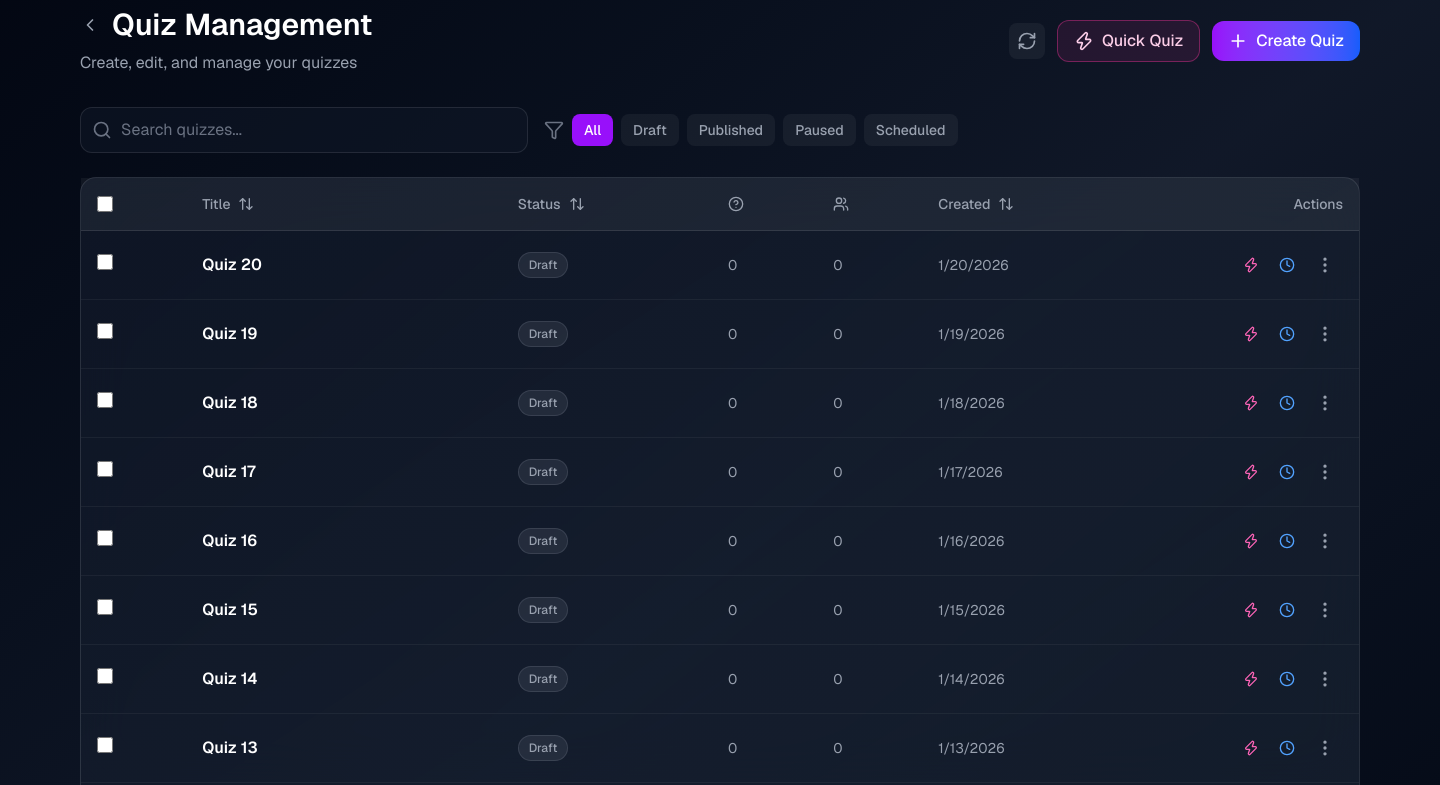
admin quiz list page › select-all reflects the quizzes on the current page, not the selection count
Click the checkbox in the row of "Actions".
click(105, 204)  # box [97, 196, 113, 212]
(page scrolled)
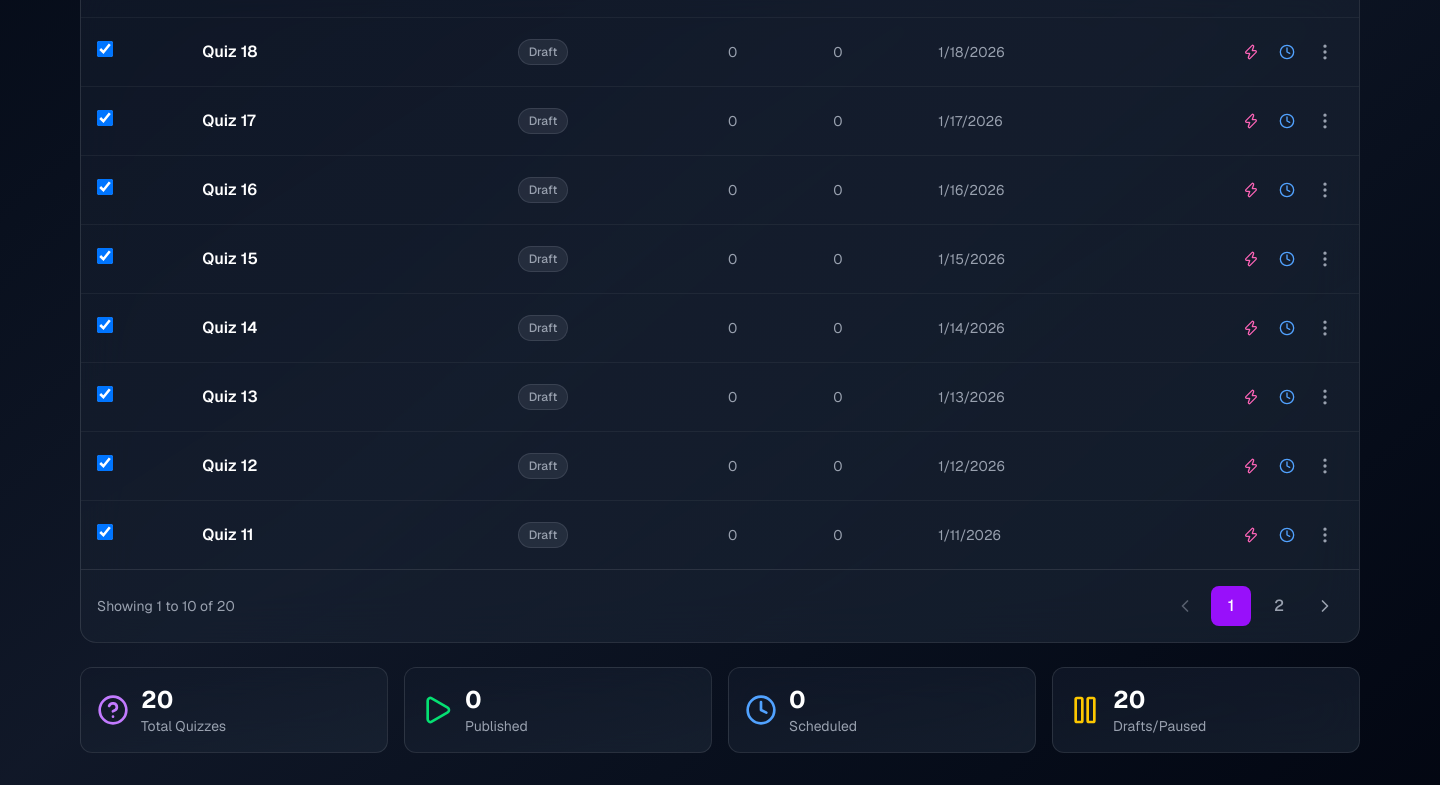
Click the button "2".
click(1279, 606)  # box [1259, 586, 1299, 626]
(page scrolled)
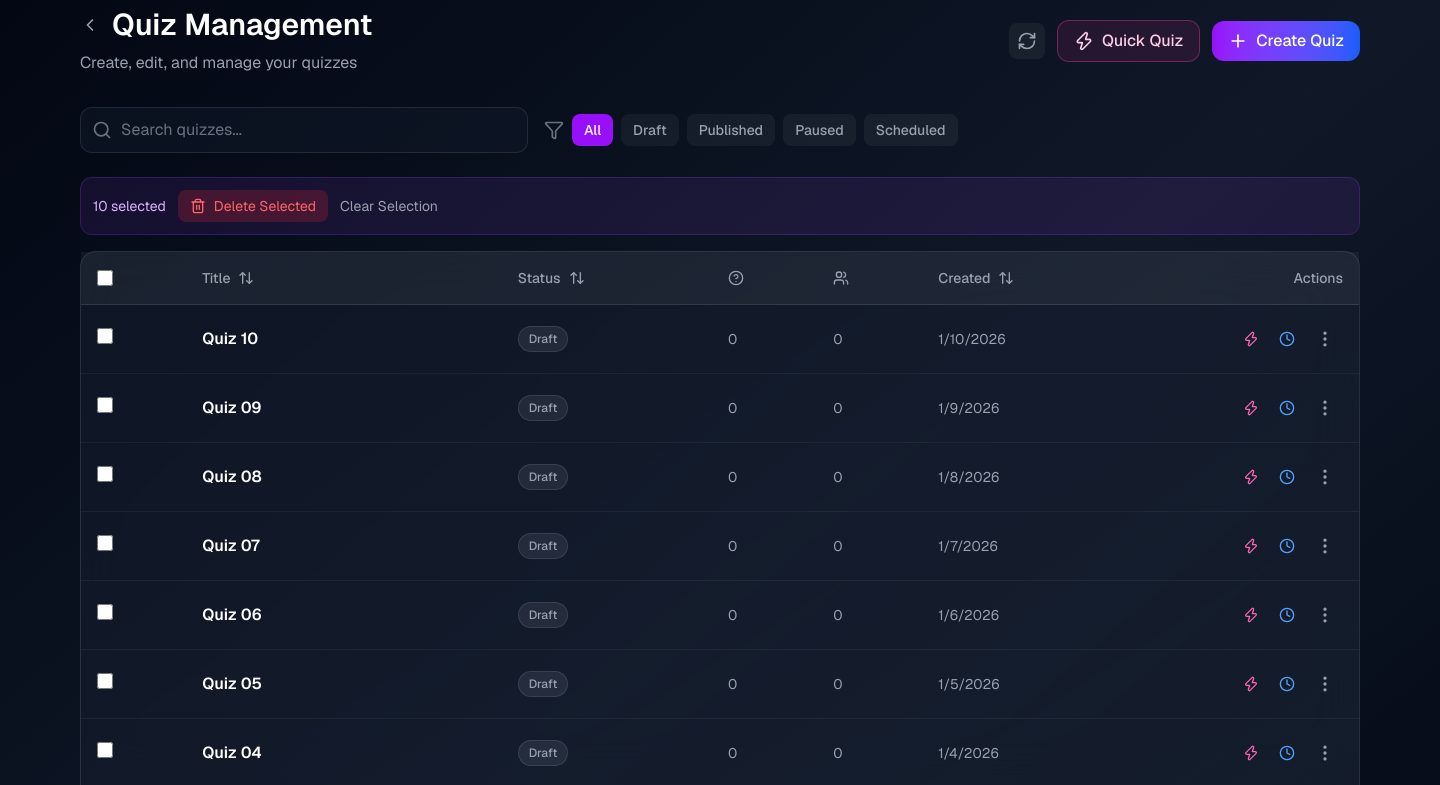
expect the checkbox in the row of "Actions" is not checked: met
Click the checkbox in the row of "Actions".
click(105, 278)  # box [97, 270, 113, 286]
(page scrolled)
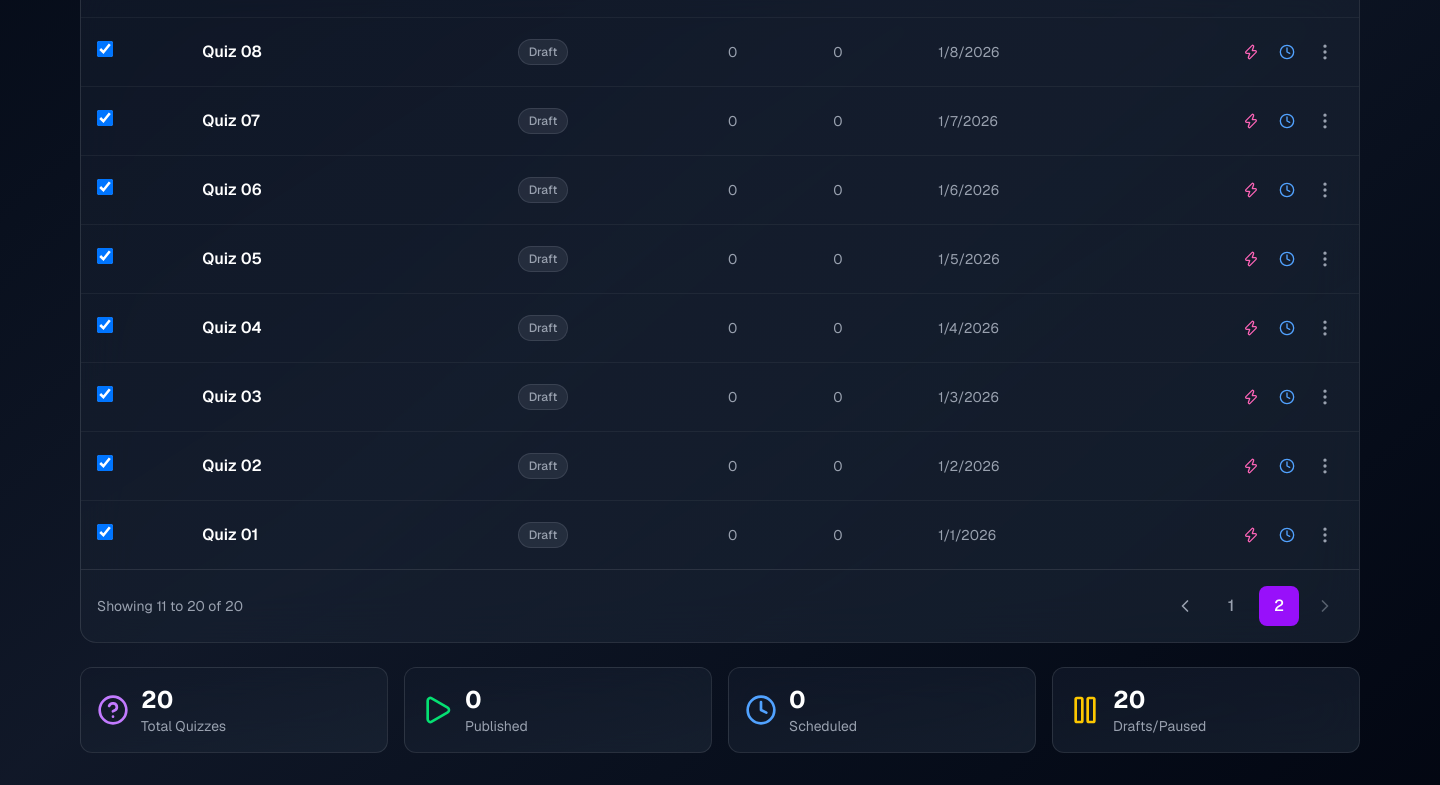
expect the checkbox next to "Quiz 01" is checked: met, box [97, 524, 113, 540]
